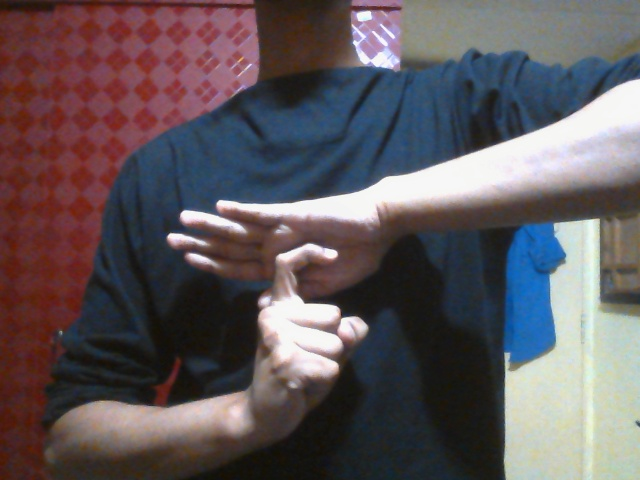R: (164, 188, 408, 434)
